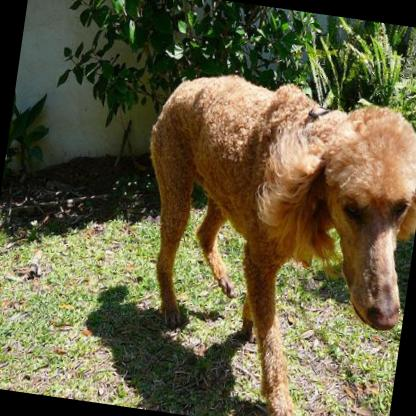standard_poodle: (109, 63, 416, 416)
